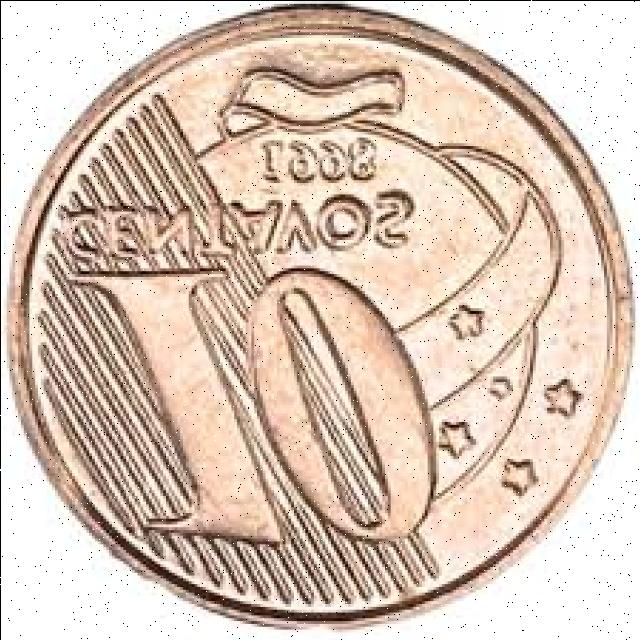10 cent: (26, 14, 620, 626)
